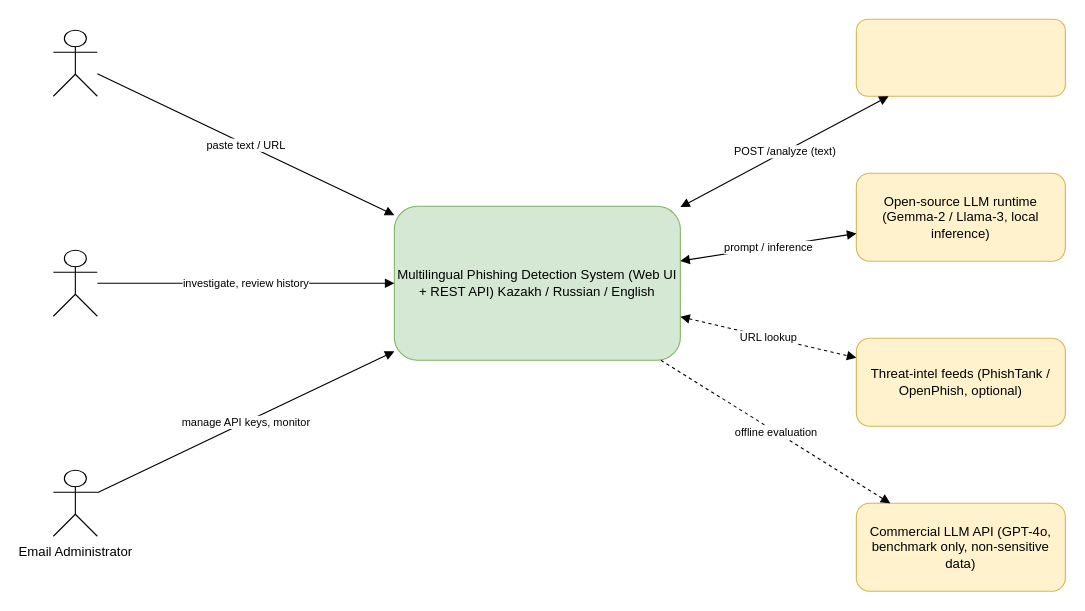
Image size: 1085x611. Some labels were removed from this diagram. Here are the shapes that lost their labels. From the top down, the centre of each, then its label:
pixel 74 62: Email User
pixel 960 57: Mail Server / MTA (plugin or webhook)
pixel 74 282: SOC Analyst
